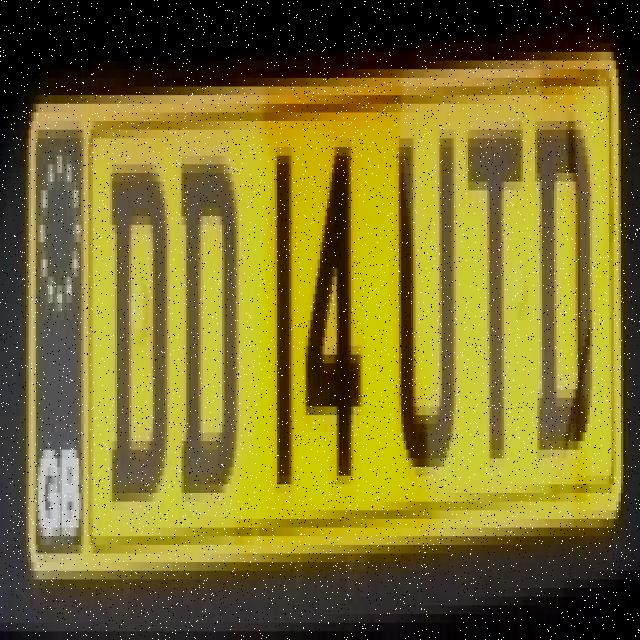licenseplate: (20, 49, 628, 592)
